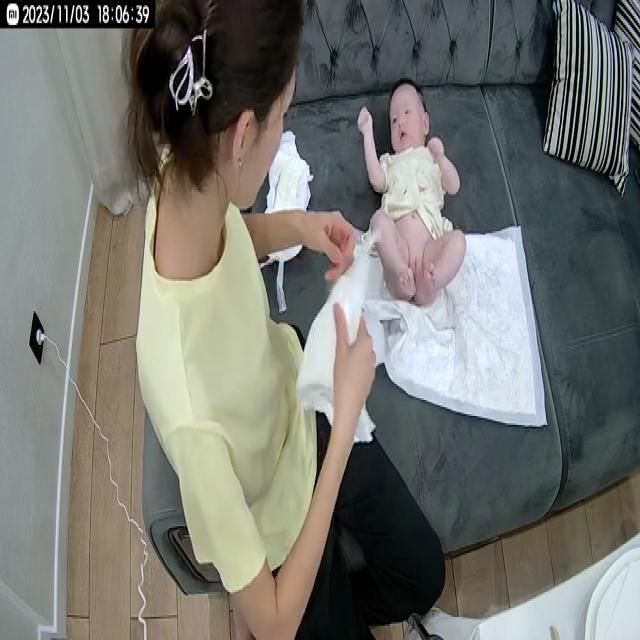baby: (356, 75, 466, 306)
